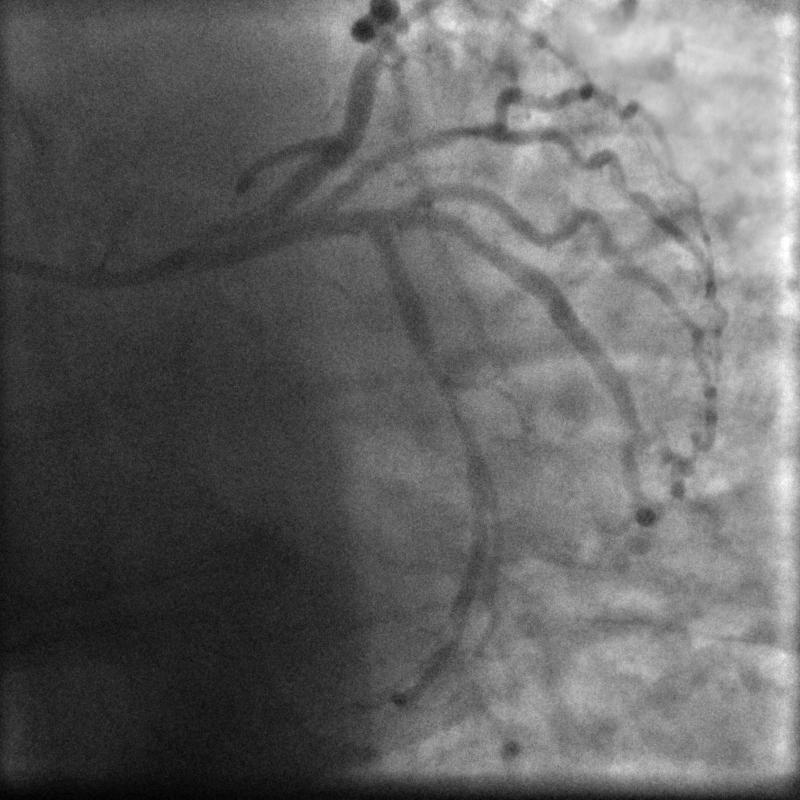Stenosis: (426, 354, 479, 453)
